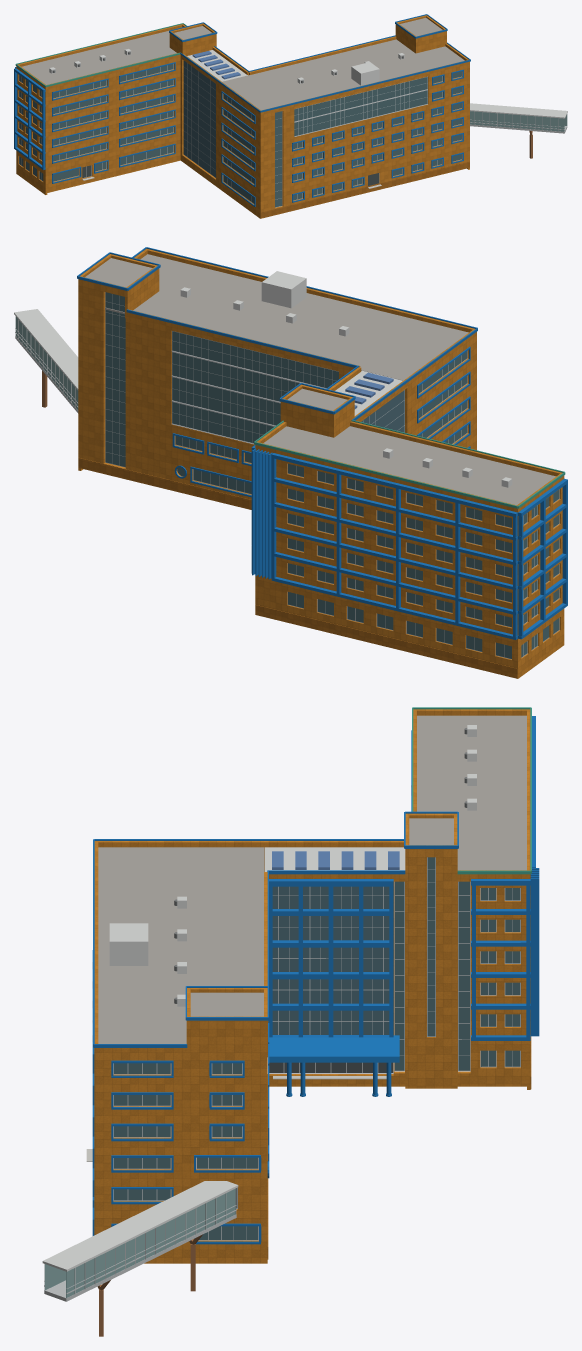
3 renders of one model, top to bottom at view 1: azimuth 30°, elevation 25°; view 2: azimuth 150°, elevation 25°; view 3: azimuth 270°, elevation 25°, orthographic. The views are drawn at different scales.
Visible parts, largest first — view 1: w451562740__orange-wall, w451562740__glass, w451562740__roof, w451562740__blue, w451562740__cw-glass, w451562740__frame, w451562740__roof-white, w451562740__grid-frame, w451562740__orange-wall-dark, w451562740__bridge-glass, w451562740__green-cap, w451562740__bridge-frame (+2 smaller); view 2: w451562740__orange-wall, w451562740__roof, w451562740__glass, w451562740__blue, w451562740__orange-wall-dark, w451562740__roof-white, w451562740__grid-frame, w451562740__frame, w451562740__green-cap, w451562740__bridge-glass, w451562740__cw-glass, w451562740__ac (+2 smaller); view 3: w451562740__orange-wall, w451562740__roof, w451562740__blue, w451562740__glass, w451562740__cw-glass, w451562740__roof-white, w451562740__bridge-glass, w451562740__frame, w451562740__canopy, w451562740__bridge-frame, w451562740__grid-frame, w451562740__sky-glass (+4 smaller).
Part boxes in pixels (x1,y1,x2,y2): w451562740__orange-wall: (16,15,469,218); w451562740__glass: (19,64,461,207); w451562740__roof: (21,18,464,110); w451562740__blue: (14,14,470,206); w451562740__cw-glass: (183,60,215,177); w451562740__frame: (19,64,462,203); w451562740__roof-white: (187,50,567,118); w451562740__grid-frame: (184,63,427,207); w451562740__orange-wall-dark: (261,161,469,218); w451562740__bridge-glass: (470,111,567,131); w451562740__green-cap: (15,23,186,87); w451562740__bridge-frame: (470,112,567,133); w451562740__orange-wall: (78,248,564,678); w451562740__roof: (85,254,555,505); w451562740__glass: (105,292,559,658); w451562740__blue: (77,247,567,639); w451562740__orange-wall-dark: (78,458,517,678); w451562740__roof-white: (14,271,402,415); w451562740__grid-frame: (105,292,404,467); w451562740__frame: (175,351,559,659); w451562740__green-cap: (254,420,565,508); w451562740__bridge-glass: (15,316,78,409); w451562740__cw-glass: (361,390,404,432); w451562740__ac: (180,287,512,487); w451562740__orange-wall: (94,709,530,1263); w451562740__roof: (98,715,526,1043); w451562740__blue: (92,716,539,1244); w451562740__glass: (114,857,520,1239); w451562740__cw-glass: (272,886,389,1034); w451562740__roof-white: (42,847,405,1271); w451562740__bridge-glass: (44,1188,235,1297); w451562740__frame: (113,886,520,1240); w451562740__canopy: (269,1035,399,1062); w451562740__bridge-frame: (44,1188,236,1301); w451562740__grid-frame: (394,857,470,1071); w451562740__sky-glass: (272,851,399,869).
Bounding box in the file's own units: 105 × 29.36 × 51.37.
25 materials, 2 textured.
